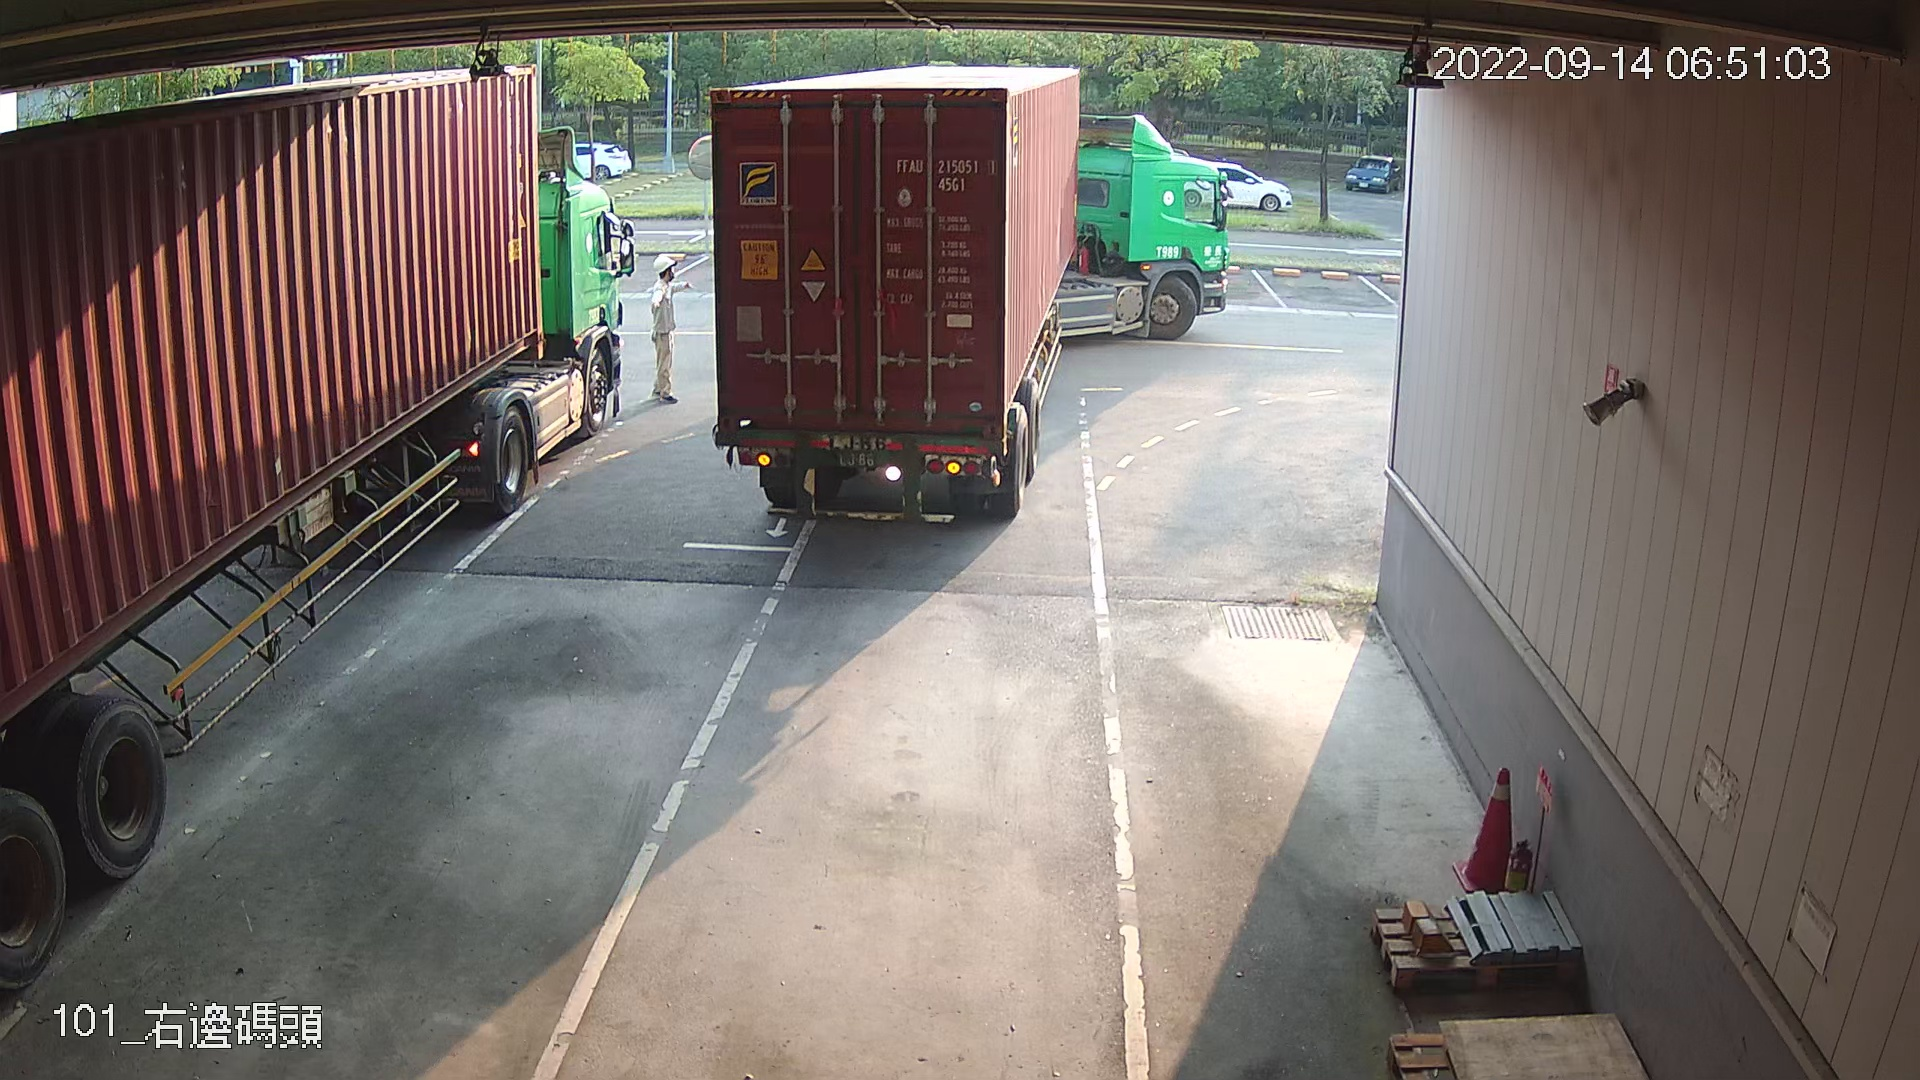container: (889, 152, 1000, 198)
